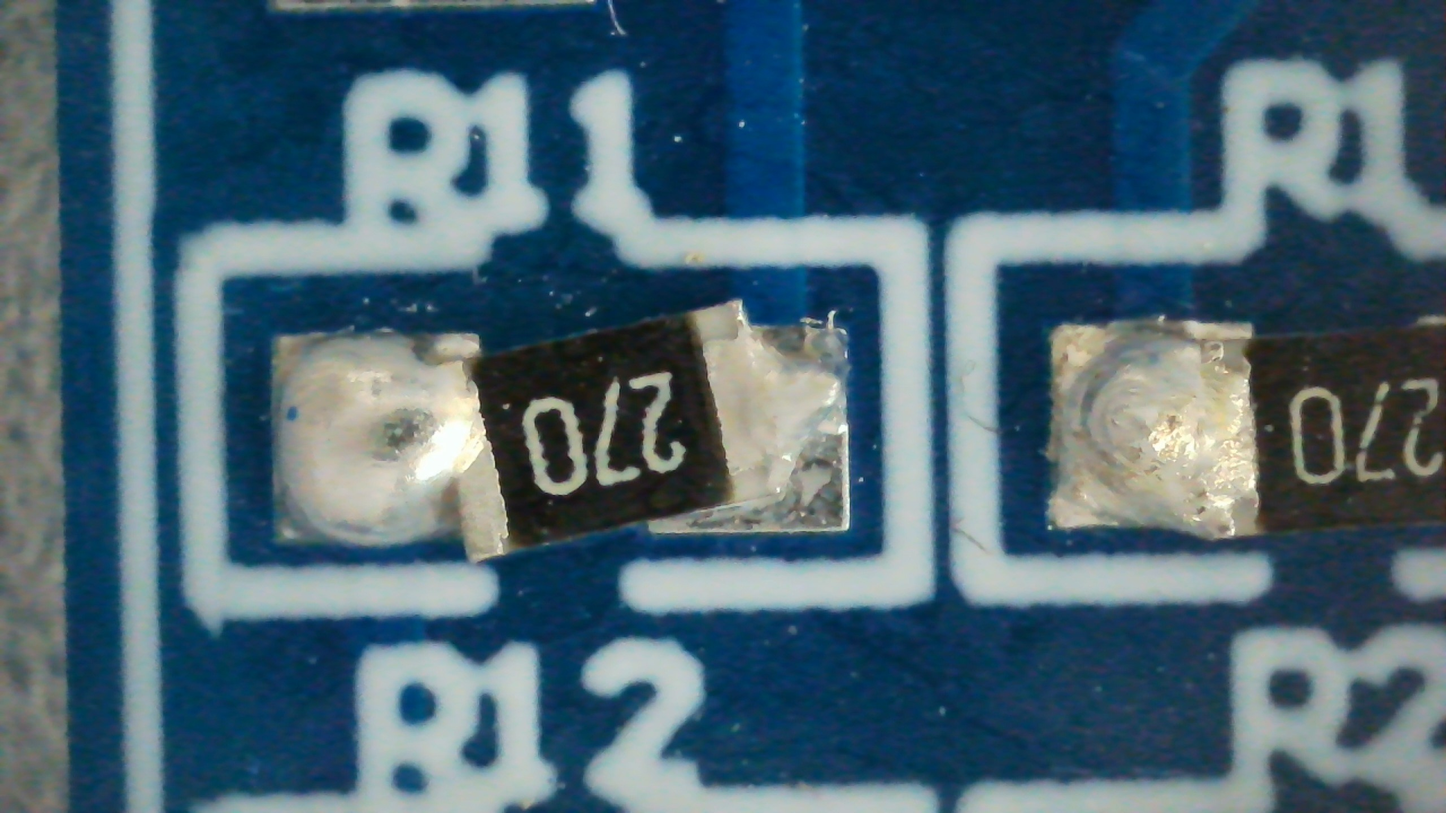NG: (272, 300, 847, 562)
